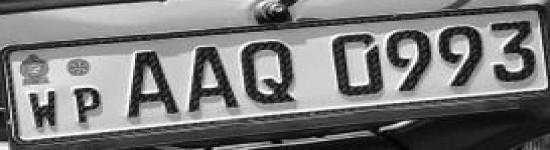0: (325, 29, 387, 97)
3: (485, 20, 540, 82)
9: (434, 20, 485, 92), (386, 25, 435, 95)
A: (179, 42, 241, 116), (119, 48, 180, 121)
P: (69, 84, 108, 126)
Q: (239, 36, 304, 108)
W: (26, 87, 66, 134)
